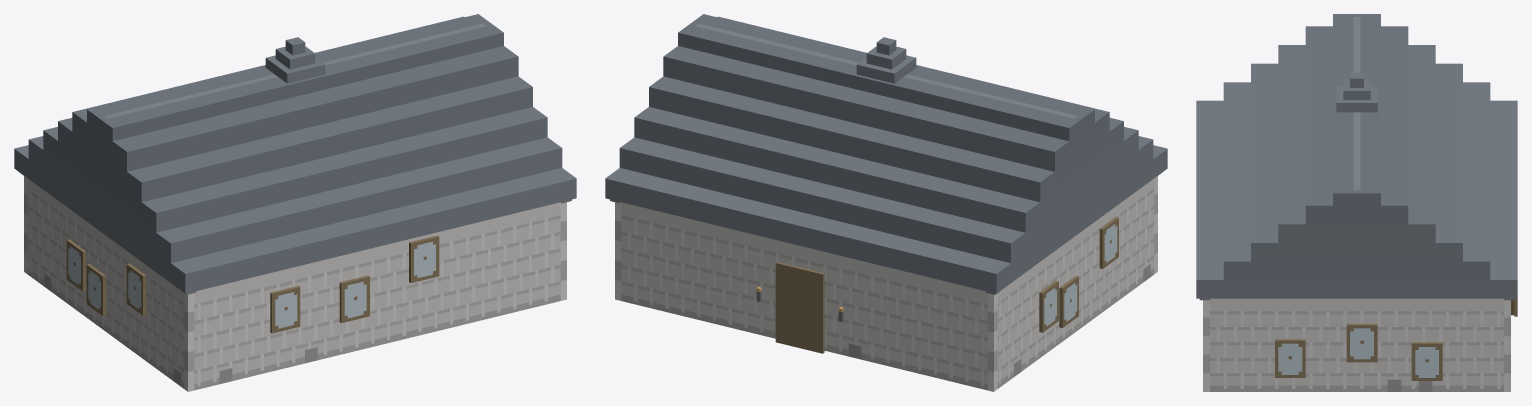
File: templo_03.glb
3 views of the same model, side by side, from view 1: azimuth 30°, elevation 25°; view 2: azimuth 150°, elevation 25°; view 3: azimuth 270°, elevation 25° (orthographic). The views are drawn at different scales.
Parts seen in each view (by area): view 1: templo_03; view 2: templo_03; view 3: templo_03.
Boxes of the visible parts, x1,y1,x2,y2 form: templo_03: [14, 14, 576, 391]; templo_03: [605, 14, 1167, 391]; templo_03: [1196, 14, 1517, 391].
Size of the model in its own units: 12.4 by 7.4 by 9.4.
